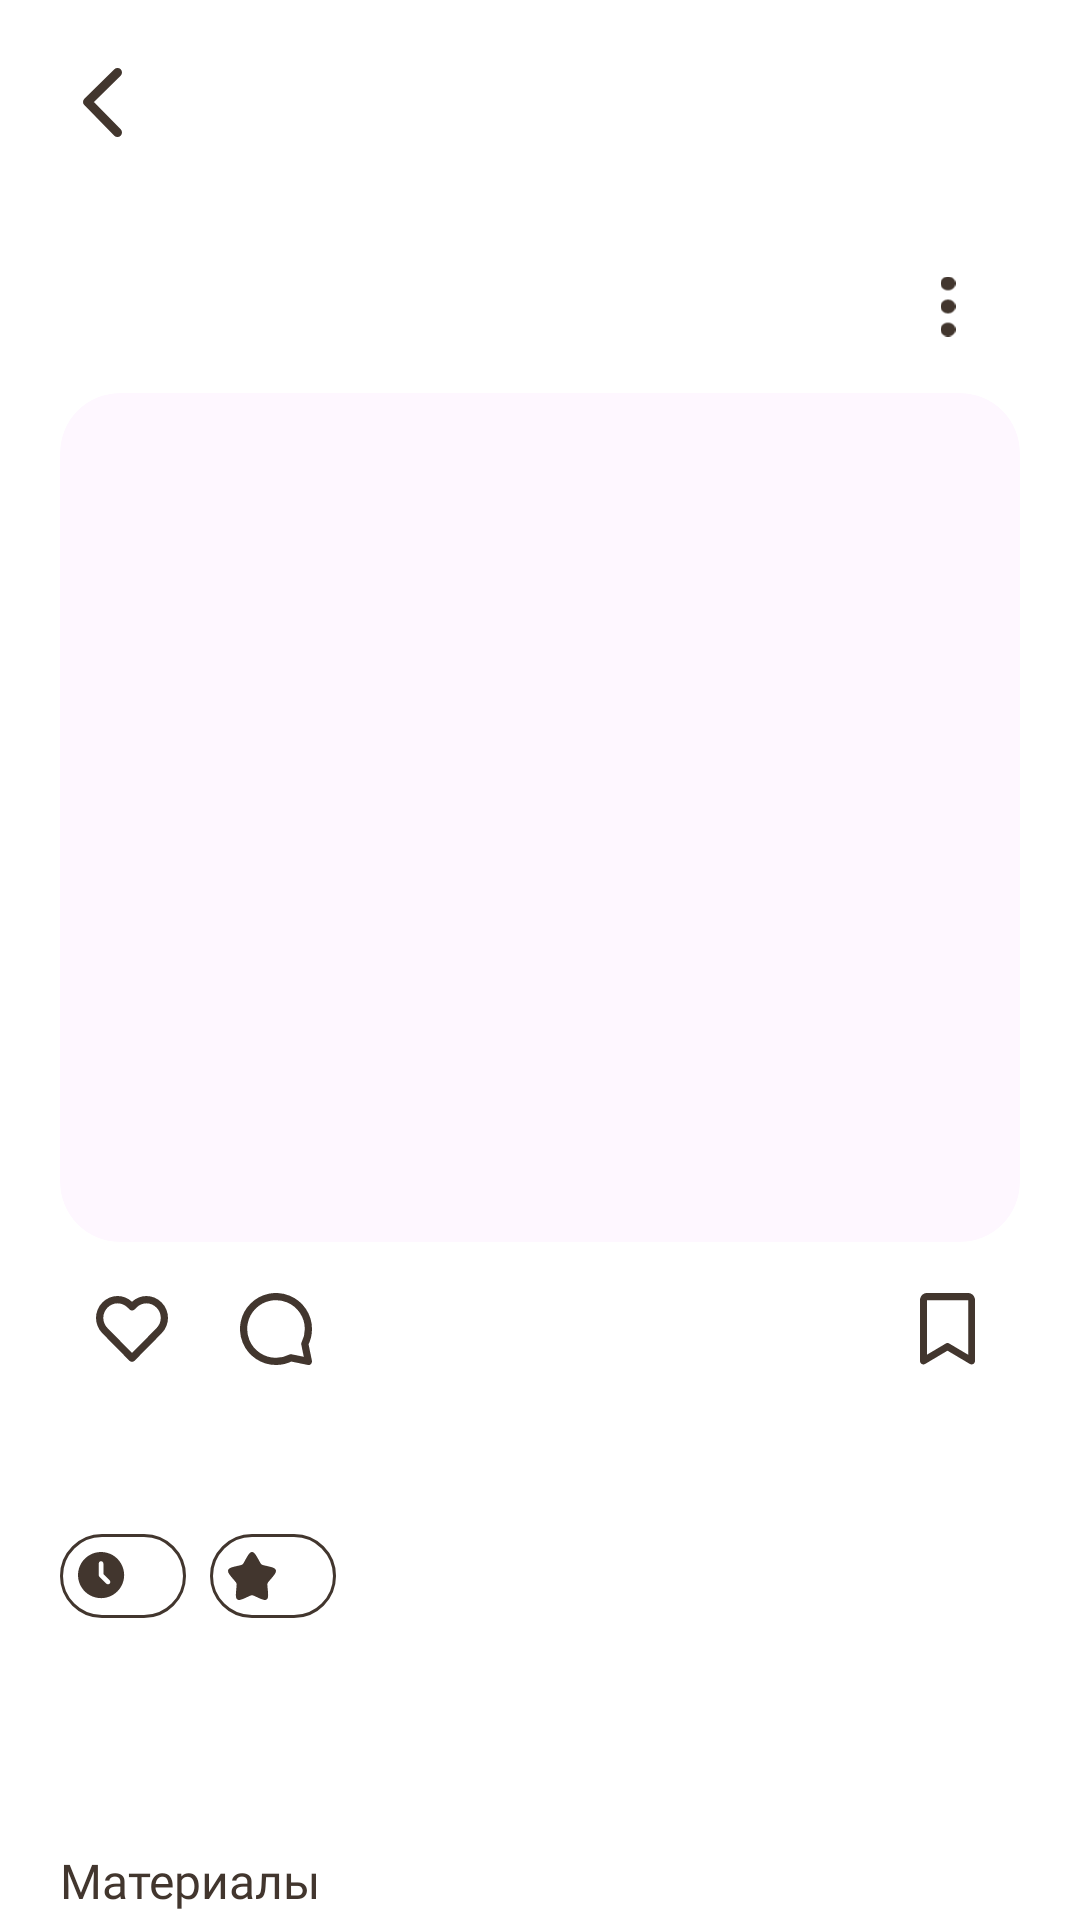

Locate icon controls on the screen. Image size 1080w x 1920h, boxes as (x1, y1, x2, y2).
arrow back: (83, 68, 122, 137)
comment: (240, 1293, 312, 1365)
like: (96, 1296, 168, 1362)
more vert: (941, 277, 956, 337)
saving: (920, 1293, 975, 1365)
